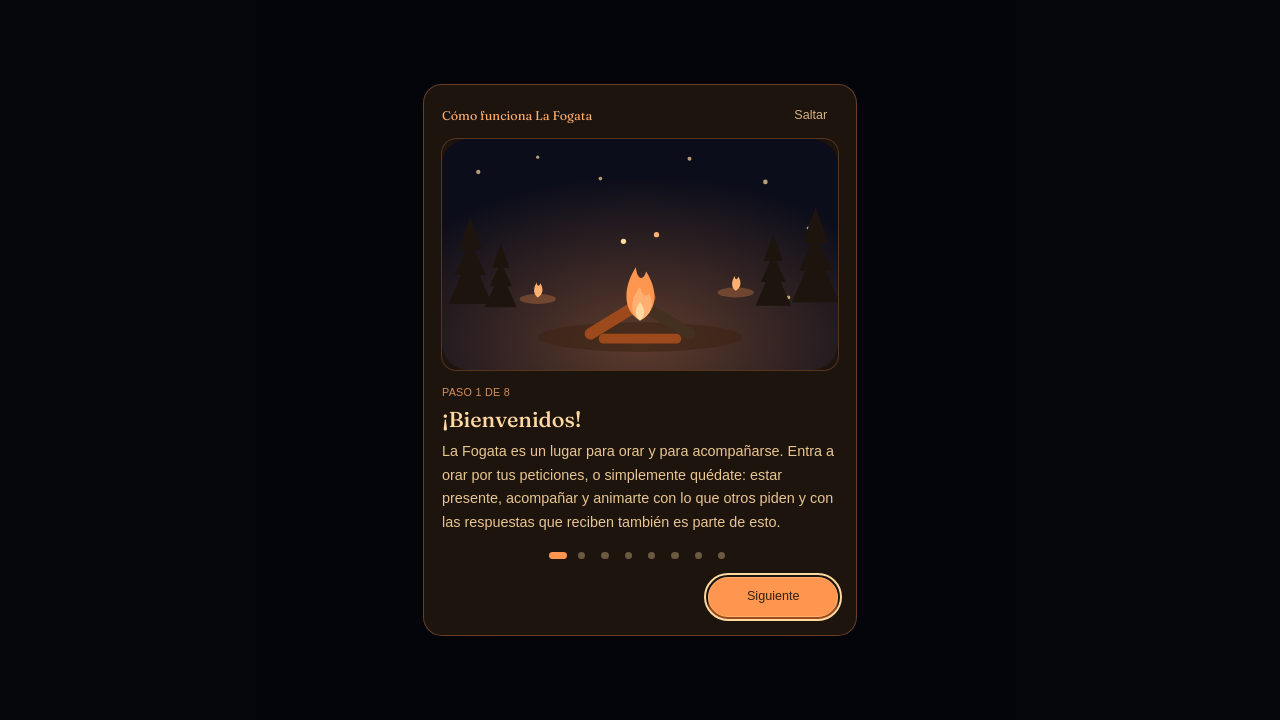
Scenario: the tutorial, in es › goes forward and back one step at a time, and says where it is
Step 1. Click the button "Siguiente" → (773, 597), box [708,577,838,617]
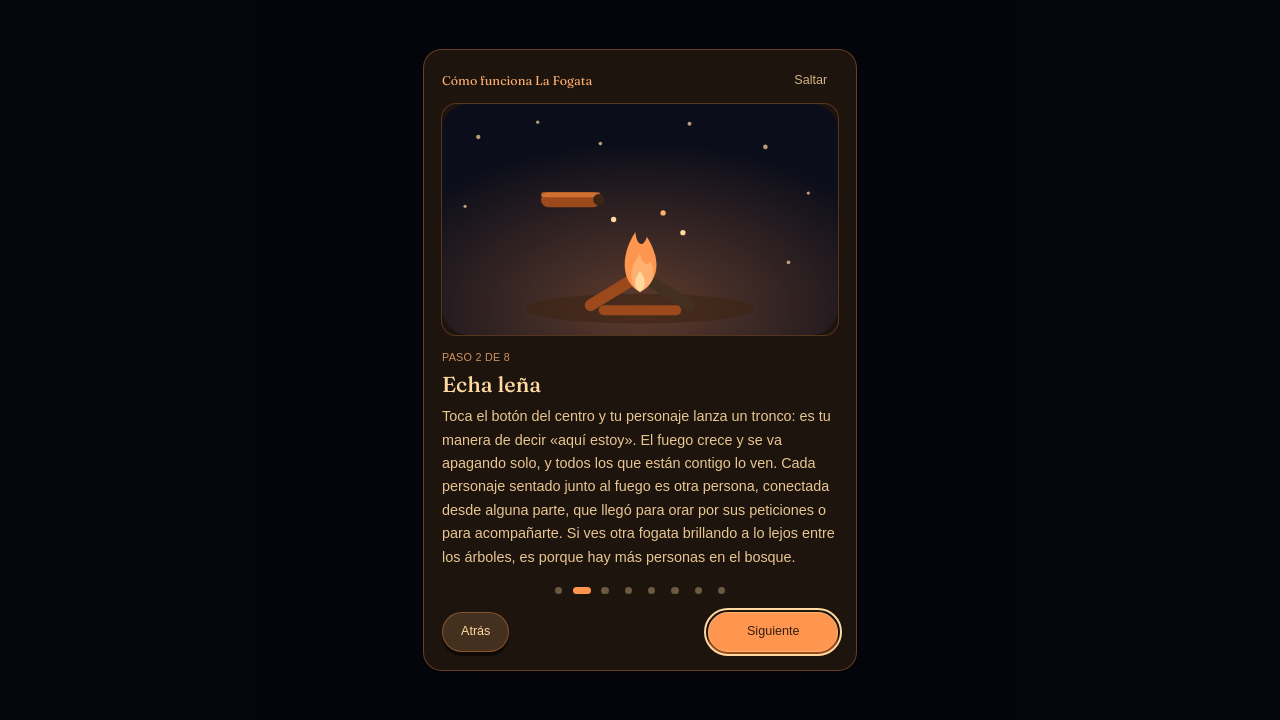
Expected: the heading "Echa leña" is shown, [442,371,541,398]
Expected: the text "Toca el botón del centro y tu personaje lanza un tronco: es tu manera de decir «aquí estoy». El fuego crece y se va apag" is shown, [442,408,835,565]
Step 2. Click the button "Atrás" → (476, 632), box [442,612,509,652]
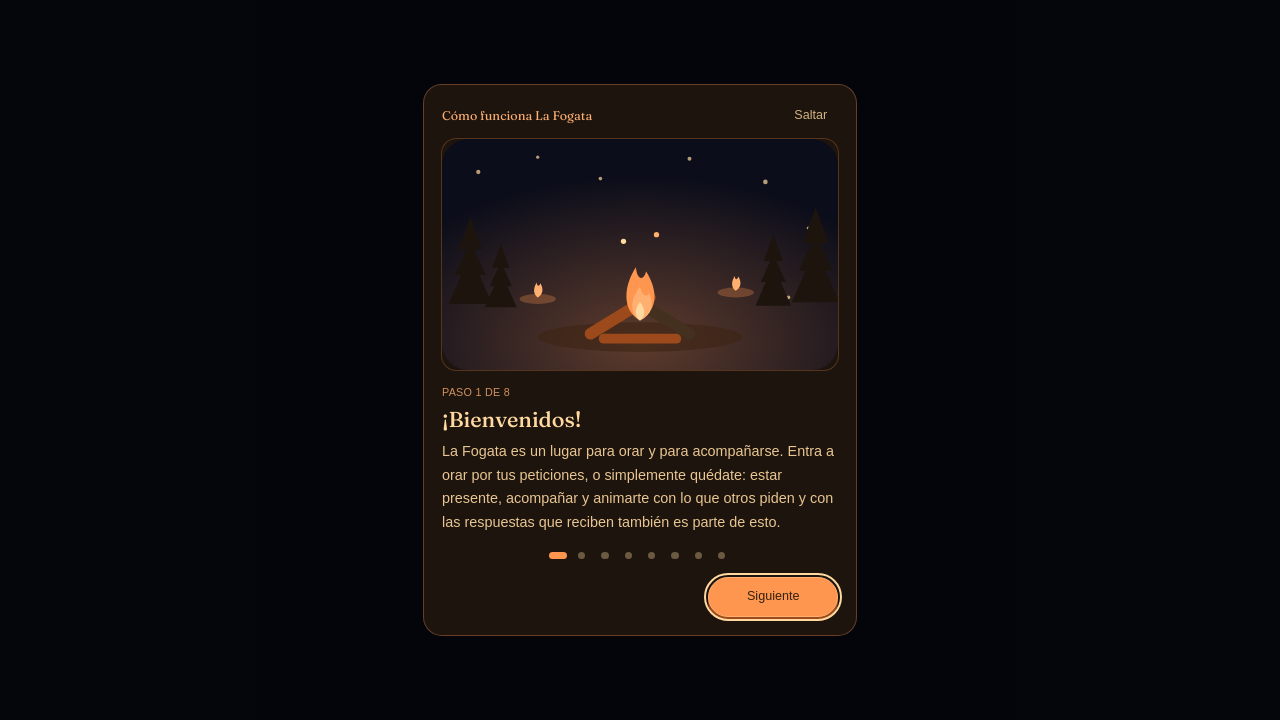
Expected: the heading "¡Bienvenidos!" is shown, [442,406,582,433]
